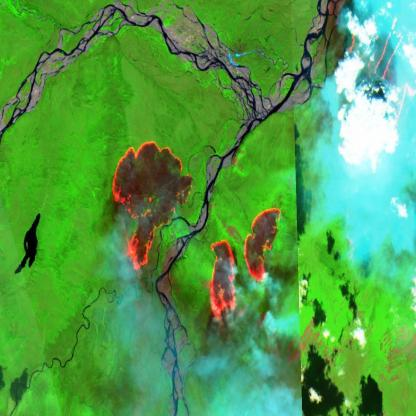fire: (109, 135, 195, 279), (342, 0, 416, 136), (204, 205, 283, 327)
